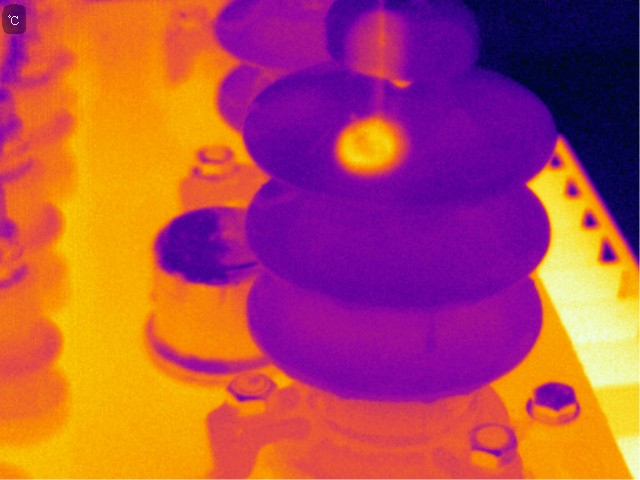Oil: (340, 6, 419, 94), (325, 109, 413, 179)
